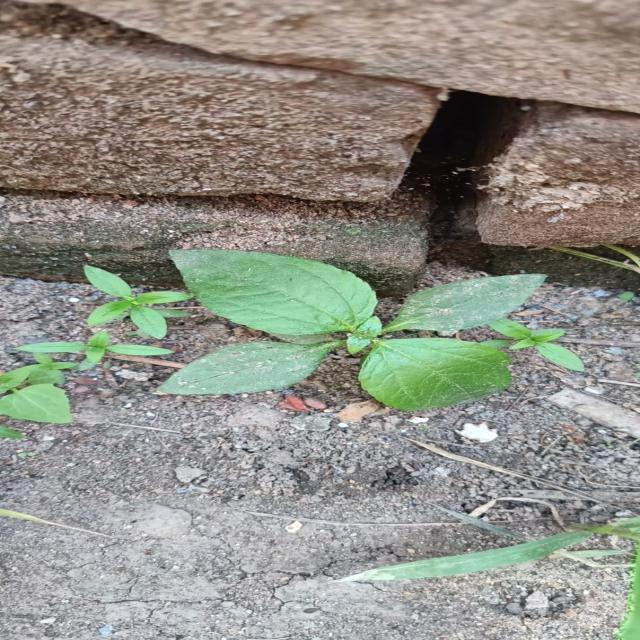plant: (159, 250, 583, 411)
